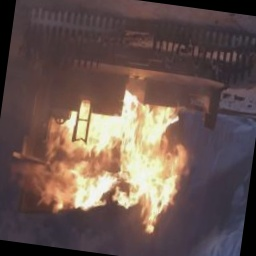fire: (23, 91, 195, 236)
